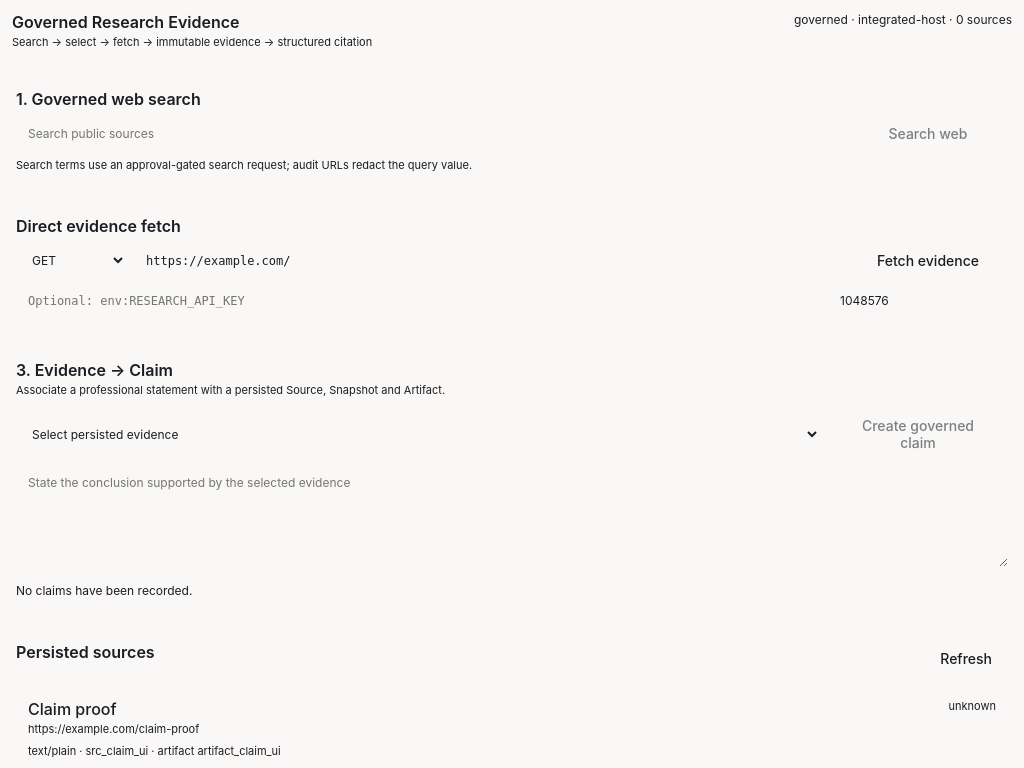
Test: research evidence workbench › creates a source-backed claim only after explicit approval
Select "Claim proof" in the dropdown named "Claim evidence source" at (418, 434), box [16,409,820,459]
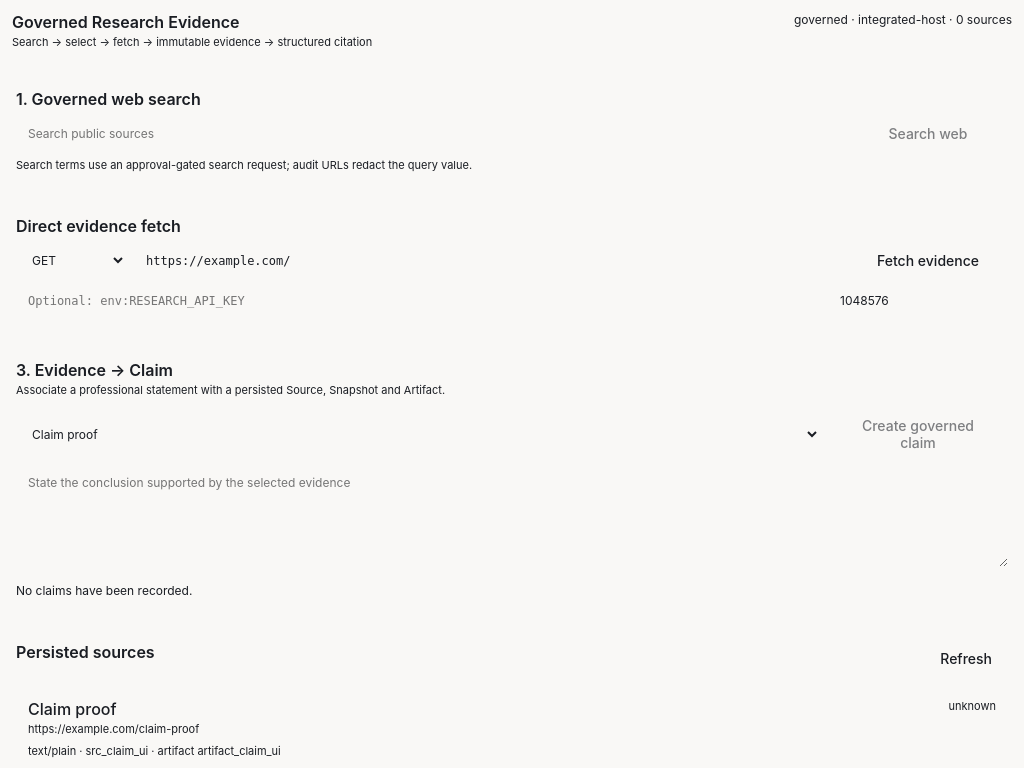
Type "The captured evidence supports this conclusion." into the text box named "Claim statement" at (512, 517), box [16,467,1008,567]
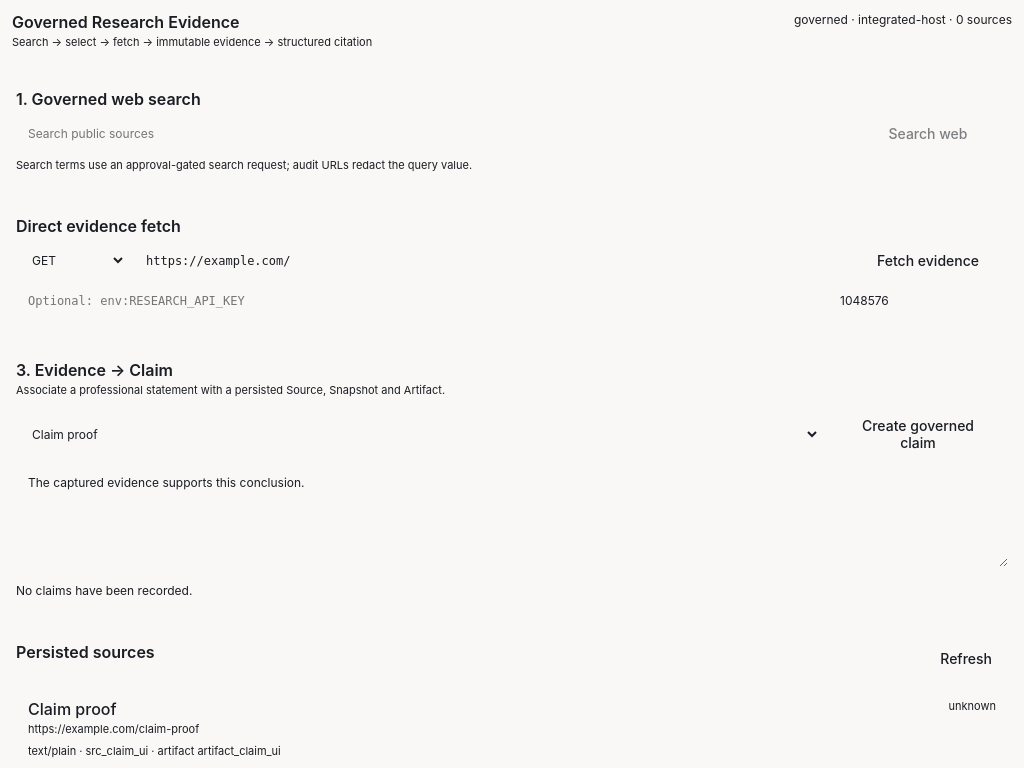
Click the button "Create governed claim" at (918, 434), box [828,409,1008,459]
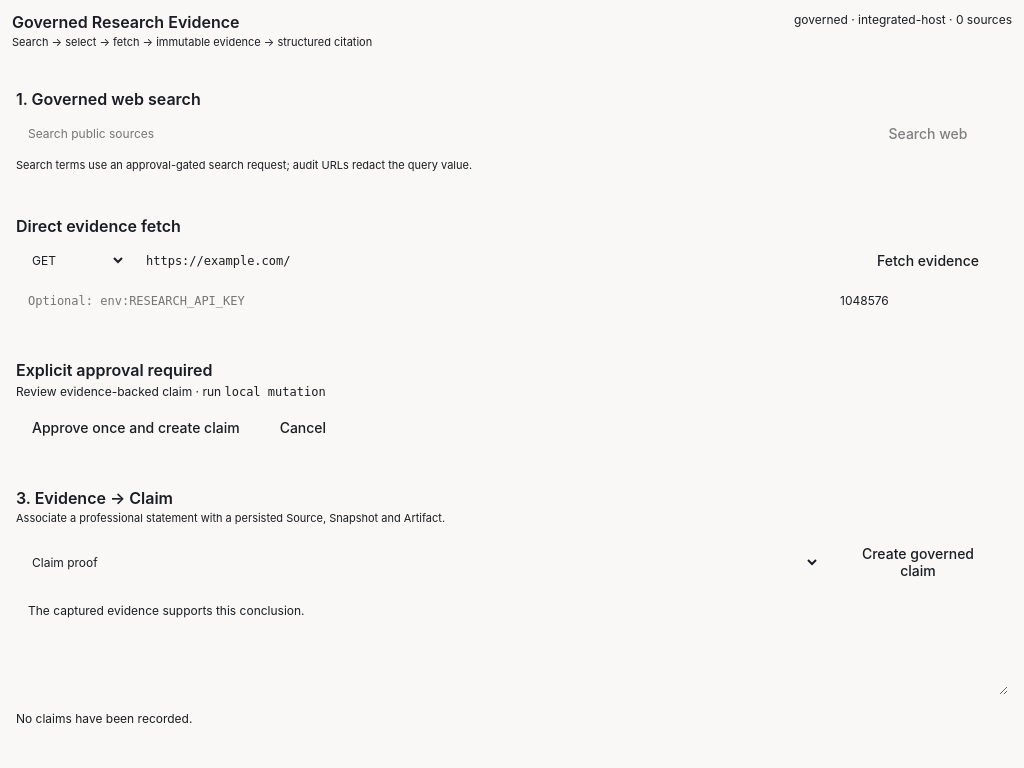
Now the text "Explicit approval required" is shown, box [16,360,212,380]
Click the button "Approve once and create claim" at (136, 428), box [16,411,256,444]
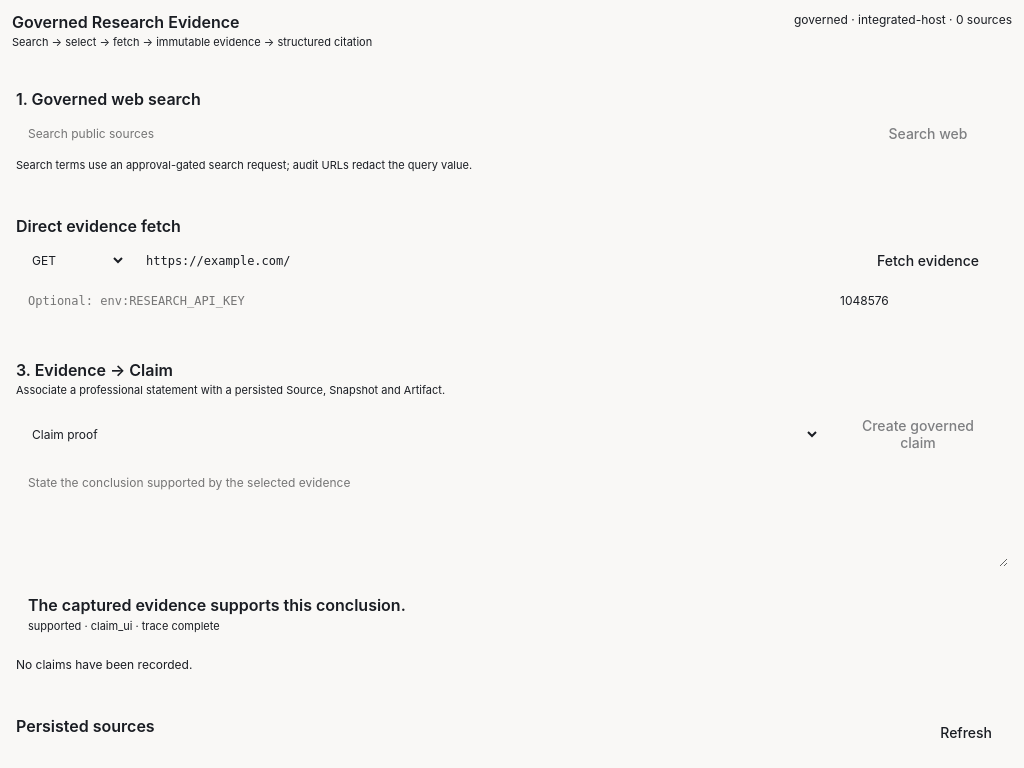
Now the text "supported · claim_ui · trace complete" is shown, box [28,619,220,633]
